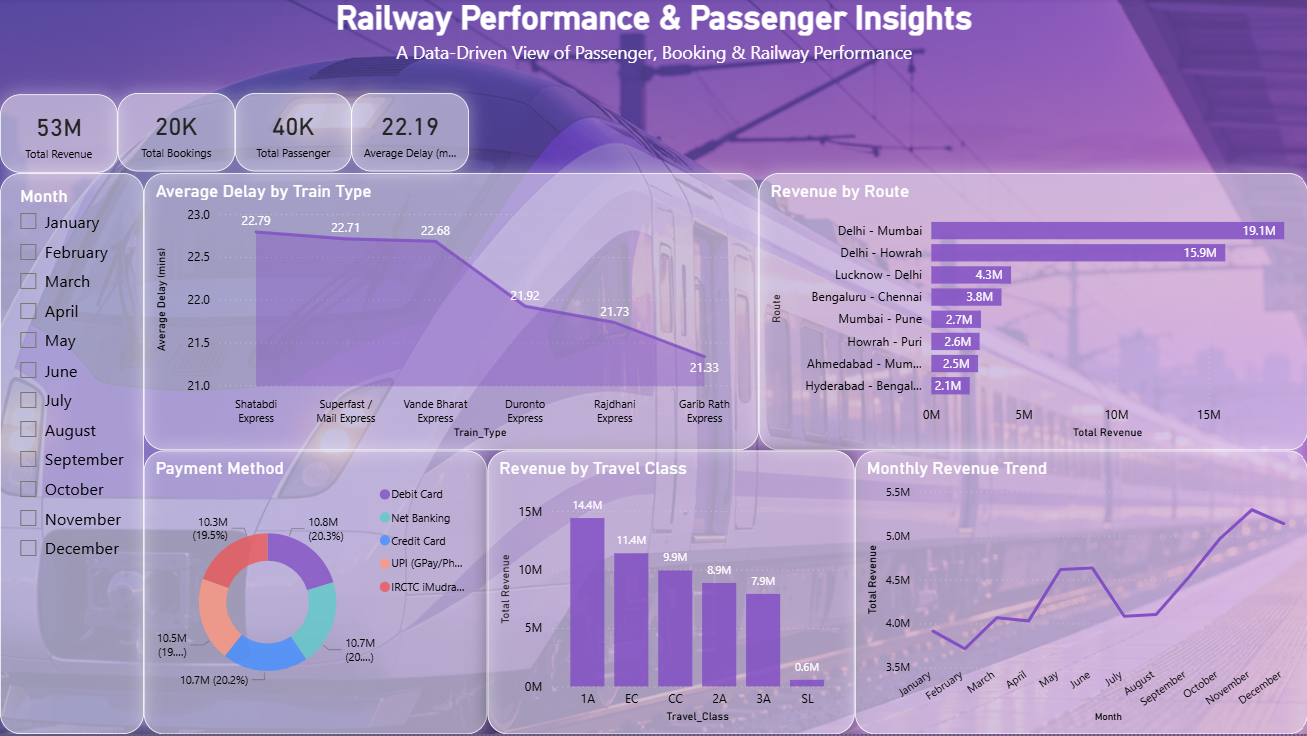

Layout of this report page (visuals, bound fields, positions):
{"tool":"powerbi","page":{"name":"Passenger & Revenue Insights","canvas":[1280,720],"ordinal":0},"visuals":[{"type":"card","fields":{"Values":["irctc_business_insights_synthetic_data (2).Total Revenue"]},"box":[0,94.2,114.9,77],"z":0},{"type":"card","fields":{"Values":["irctc_business_insights_synthetic_data (2).Total Booking"]},"box":[114.9,92.9,114.9,77],"z":1000},{"type":"card","fields":{"Values":["irctc_business_insights_synthetic_data (2).Total Passenger"]},"box":[229.9,92.9,114,77],"z":2000},{"type":"donutChart","title":"Payment Method","fields":{"Category":["irctc_business_insights_synthetic_data (2).Payment_Method"],"Y":["Sum(irctc_business_insights_synthetic_data (2).Total_Revenue_INR)"]},"box":[140.6,442.7,336.3,277.6],"z":3000},{"type":"barChart","title":"Revenue by Route","fields":{"Y":["irctc_business_insights_synthetic_data (2).Total Revenue"],"Category":["irctc_business_insights_synthetic_data (2).Route"]},"box":[742.3,171.2,538,271.5],"z":4000},{"type":"columnChart","title":" Revenue by Travel Class","fields":{"Y":["irctc_business_insights_synthetic_data (2).Total Revenue"],"Category":["irctc_business_insights_synthetic_data (2).Travel_Class"]},"box":[476.9,442.7,359.5,277.6],"z":5000},{"type":"card","fields":{"Values":["irctc_business_insights_synthetic_data (2).Avg Delay (mins)"]},"box":[343.6,92.9,114.9,77],"z":6000},{"type":"areaChart","title":"Average Delay by Train Type","fields":{"Category":["irctc_business_insights_synthetic_data (2).Train_Type"],"Y":["irctc_business_insights_synthetic_data (2).Avg Delay (mins)"]},"box":[140.6,171.2,601.6,271.5],"z":7000},{"type":"slicer","fields":{"Values":["irctc_business_insights_synthetic_data (2).Booking_Date.Variation.Date Hierarchy.Month"]},"box":[0,171.2,140.6,549.1],"z":8000},{"type":"textbox","title":"Railway Performance & Passenger Insights","box":[0,0,1280,73.6],"z":10000},{"type":"lineChart","title":"Monthly Revenue Trend","fields":{"Category":["irctc_business_insights_synthetic_data (2).Booking_Date.Variation.Date Hierarchy.Month"],"Y":["irctc_business_insights_synthetic_data (2).Total Revenue"]},"box":[836.4,442.7,443.9,277.6],"z":11000}]}

Visuals, with their boxes in screenshot pixels (x1, y1, x2, y2), scaled from the page's 1280x720 canvas onto the 1307x736 screenshot:
card - irctc_business_insights_synthetic_data (2).Total Revenue: box(0, 96, 117, 175)
card - irctc_business_insights_synthetic_data (2).Total Booking: box(117, 95, 235, 174)
card - irctc_business_insights_synthetic_data (2).Total Passenger: box(235, 95, 351, 174)
"Payment Method" donutChart: box(144, 453, 487, 735)
"Revenue by Route" barChart: box(758, 175, 1306, 453)
" Revenue by Travel Class" columnChart: box(487, 453, 854, 735)
card - irctc_business_insights_synthetic_data (2).Avg Delay (mins): box(351, 95, 468, 174)
"Average Delay by Train Type" areaChart: box(144, 175, 758, 453)
slicer - irctc_business_insights_synthetic_data (2).Booking_Date.Variation.Date Hierarchy.Month: box(0, 175, 144, 735)
"Railway Performance & Passenger Insights" textbox: box(0, 0, 1306, 75)
"Monthly Revenue Trend" lineChart: box(854, 453, 1306, 735)
